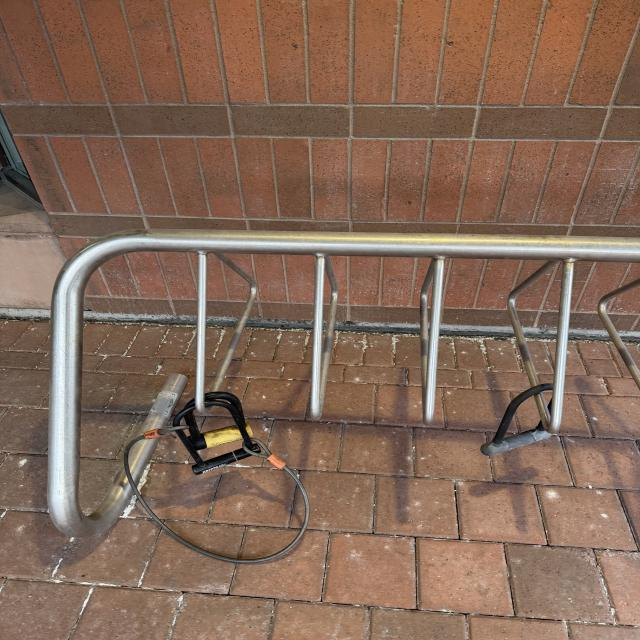Bicycle Rack: (50, 233, 640, 543)
